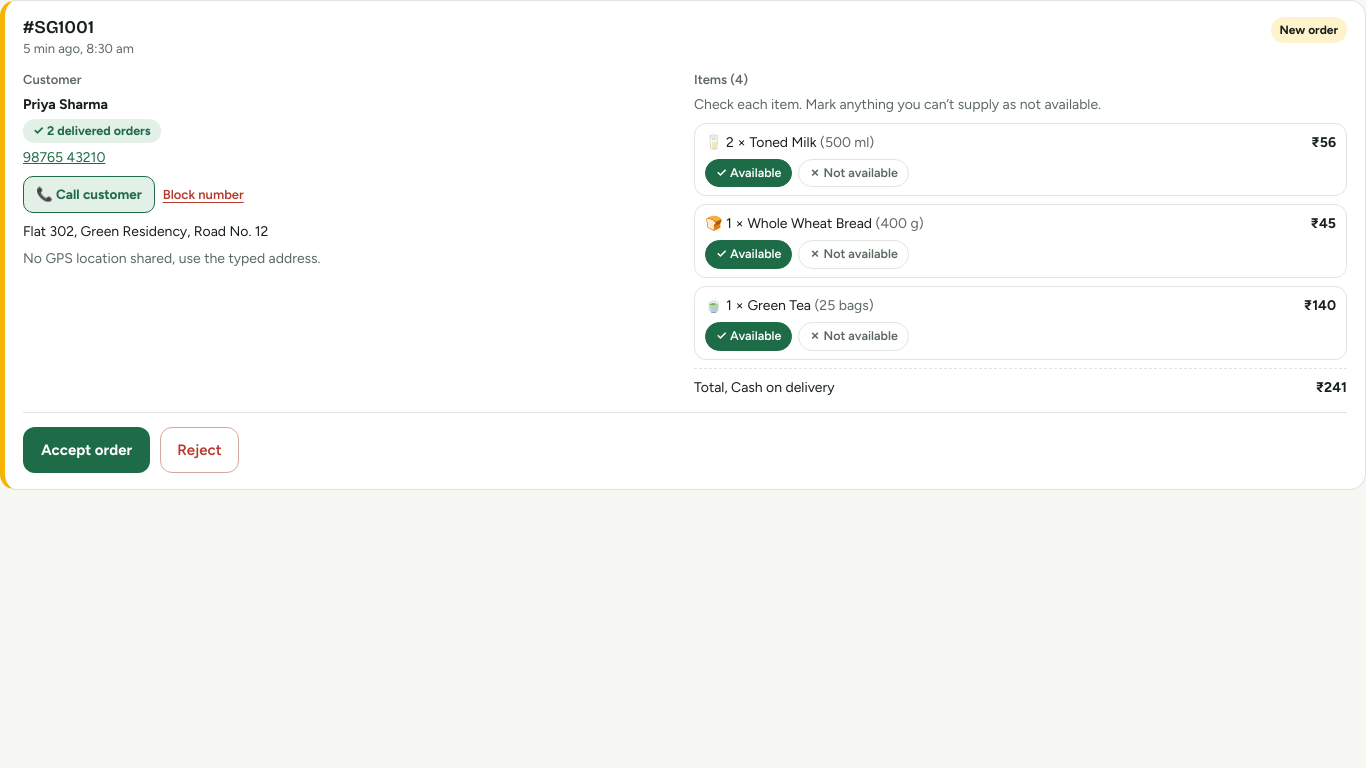
AdminOrderCard › shows the backend's message when someone else changed the order first
The width and height of the screenshot is (1366, 768).
Click the button "Accept order".
click(87, 450)  # box [23,427,150,473]
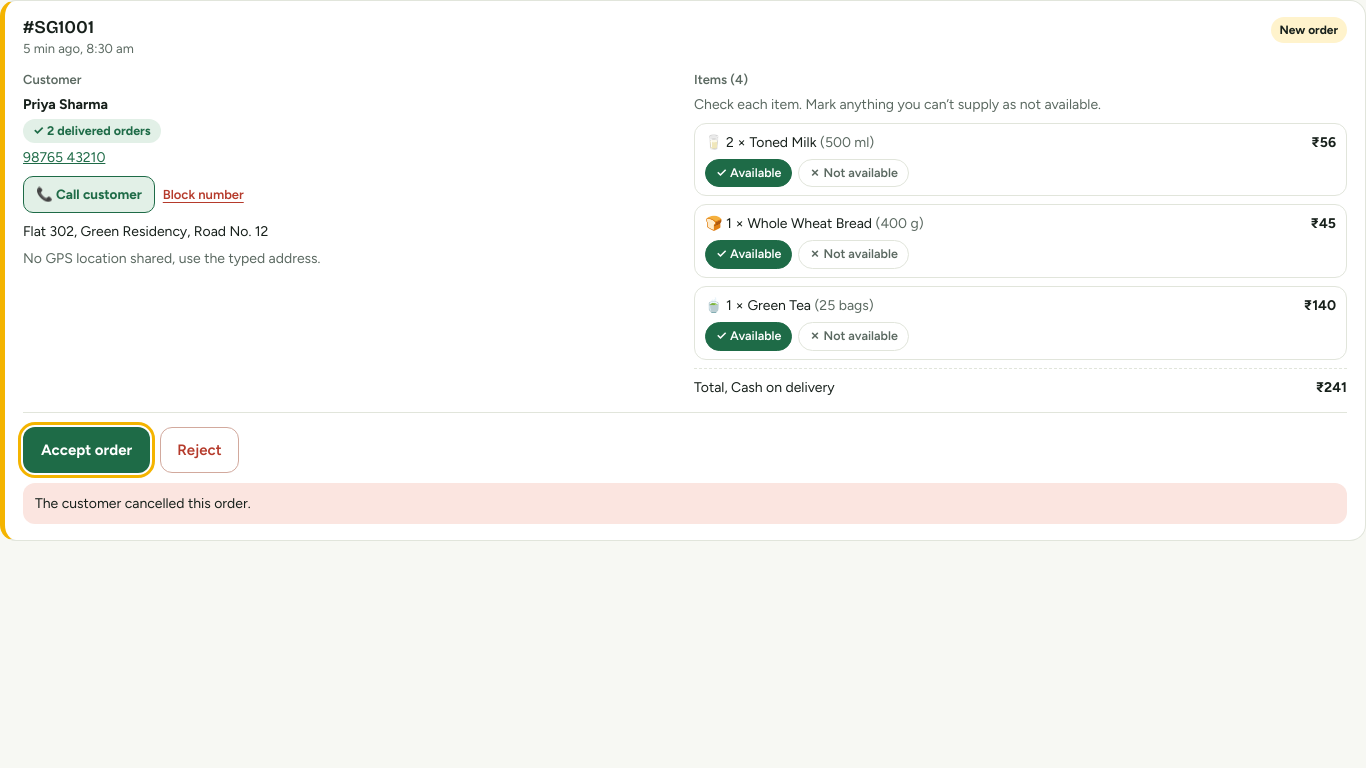
Expected: the message reads "The customer cancelled this order.", [35,495,251,512]
